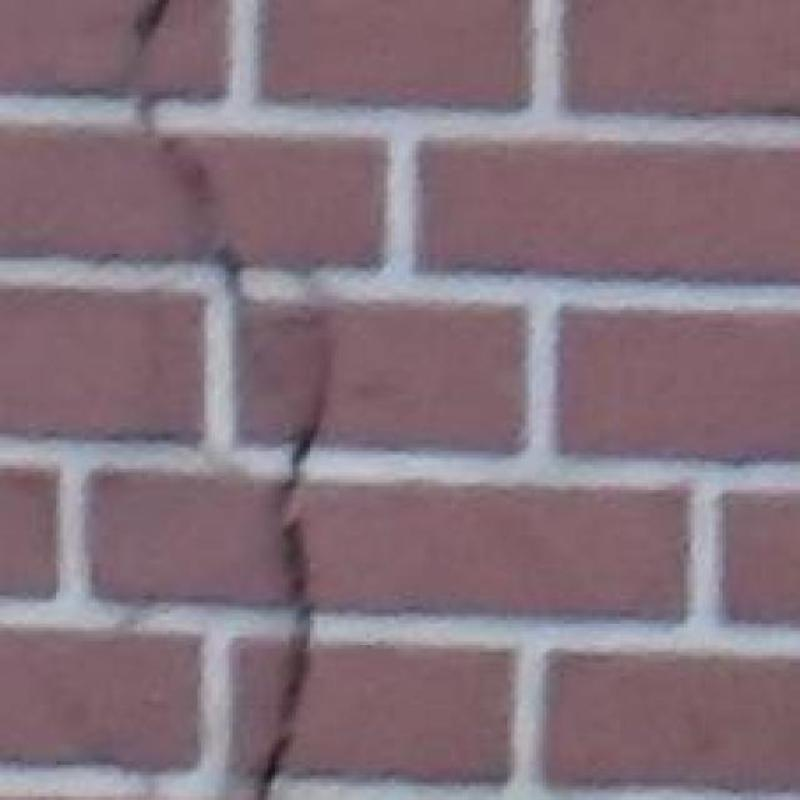pothole: (127, 0, 259, 342), (256, 312, 336, 799)
